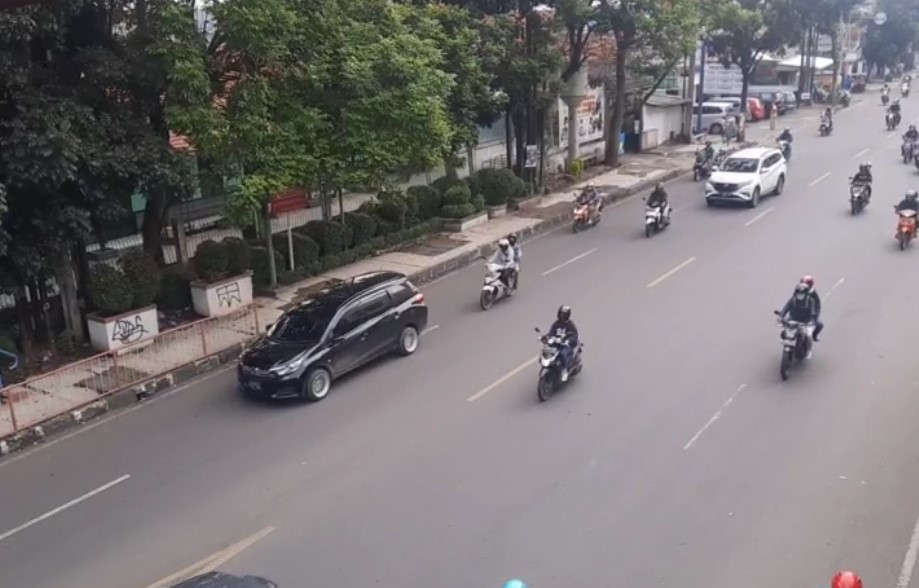motor: (775, 274, 828, 389), (533, 307, 591, 404), (476, 237, 526, 310), (633, 182, 680, 240), (569, 176, 605, 234), (844, 161, 874, 220), (890, 191, 919, 251)
